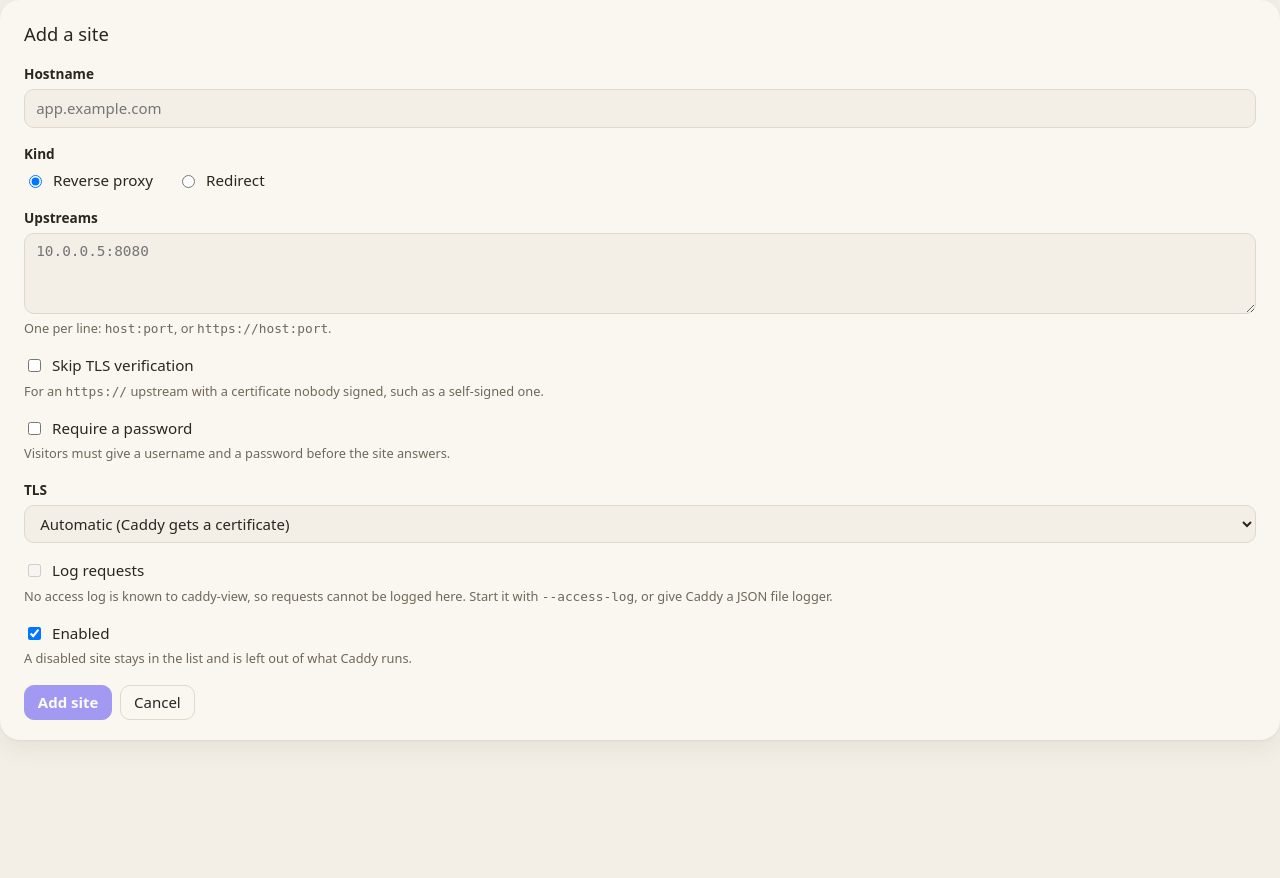
Test: SiteWizard password protection › warns that the password travels unencrypted when TLS is off
Click the checkbox labelled "Require a password" at (34, 428), box top-left (28, 422), bottom-right (41, 435)
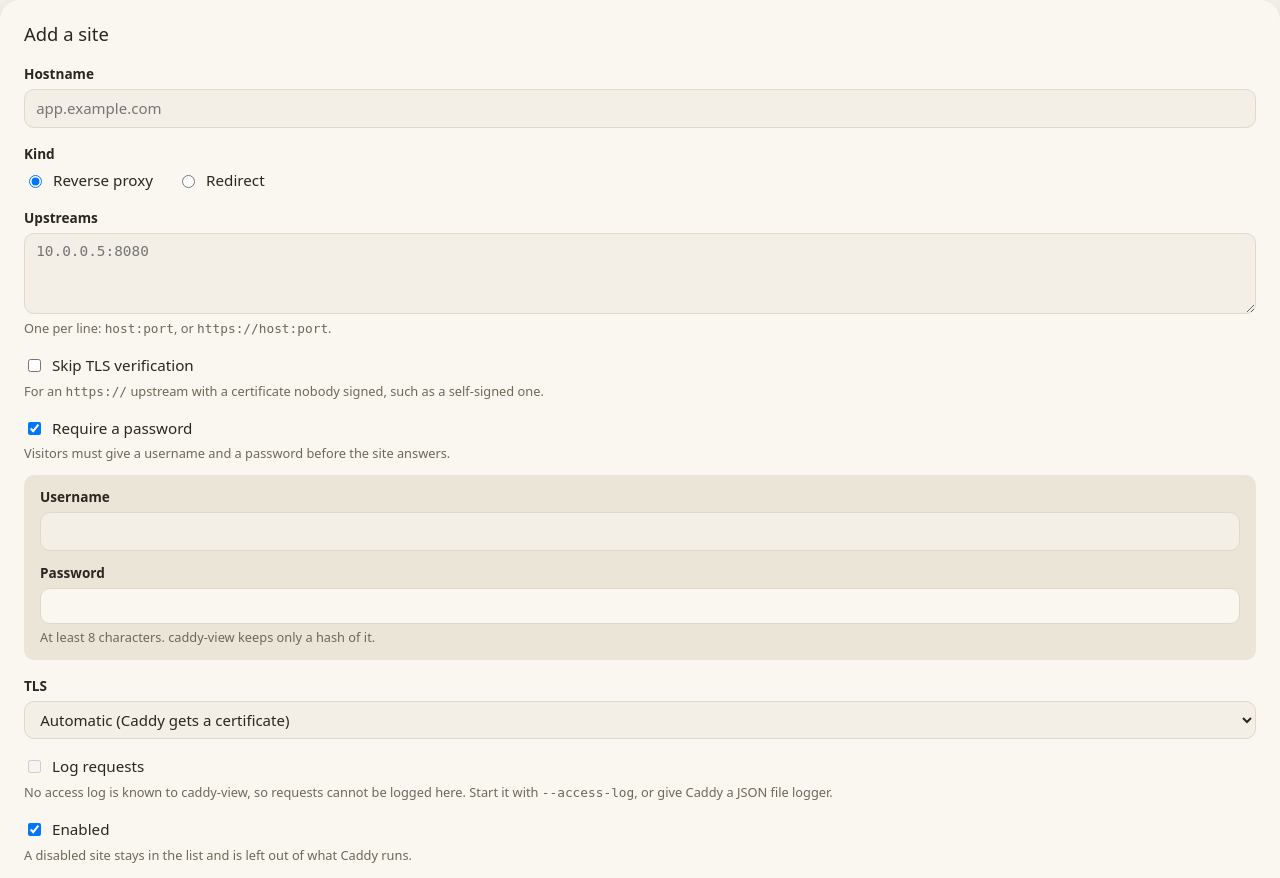
Check: the text "unencrypted" is not shown
Select "Off (plain HTTP)" in the dropdown labelled "TLS" at (640, 720), box top-left (24, 701), bottom-right (1256, 739)
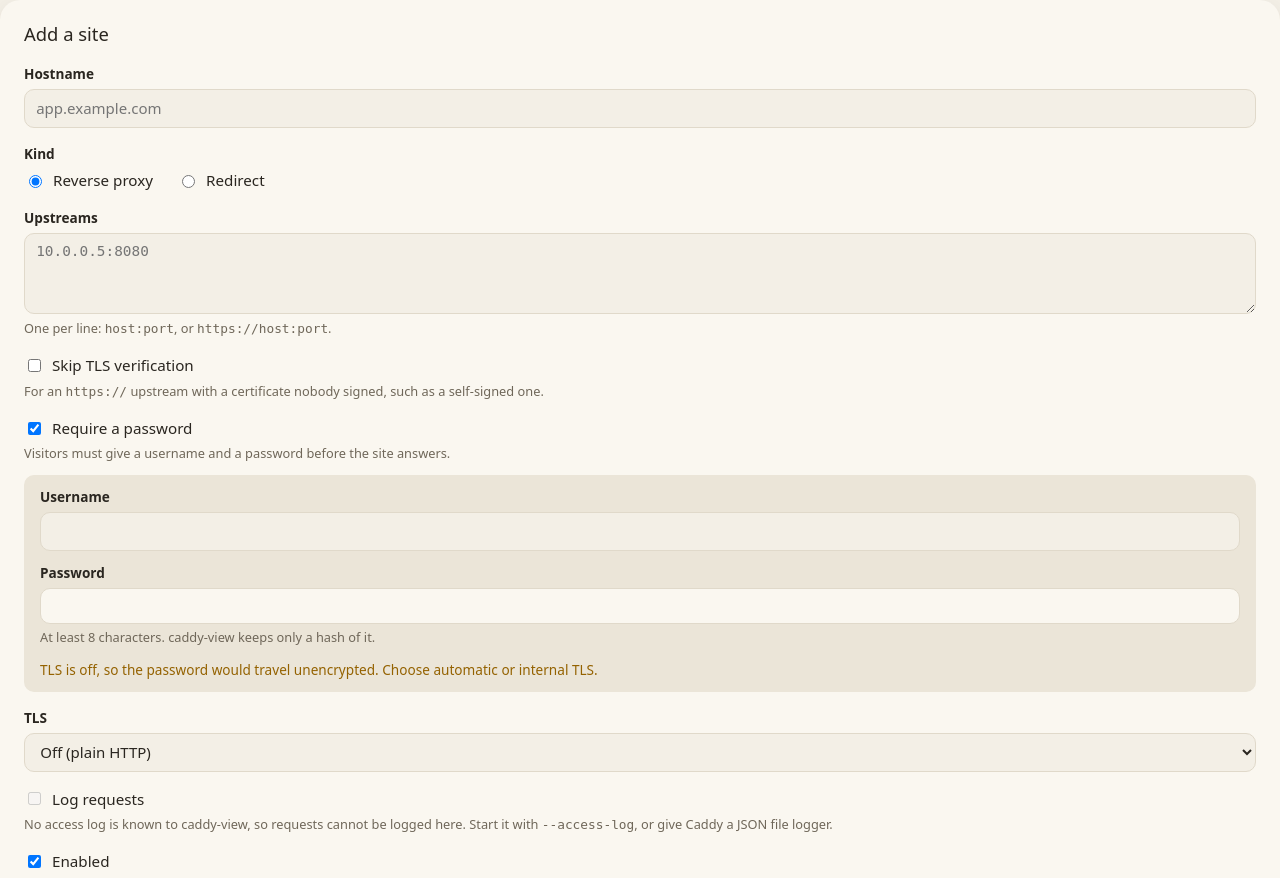
Check: the text "unencrypted" is shown, box top-left (40, 660), bottom-right (598, 679)
Select "Internal (Caddy's own certificate authority)" in the dropdown labelled "TLS" at (640, 752), box top-left (24, 733), bottom-right (1256, 772)
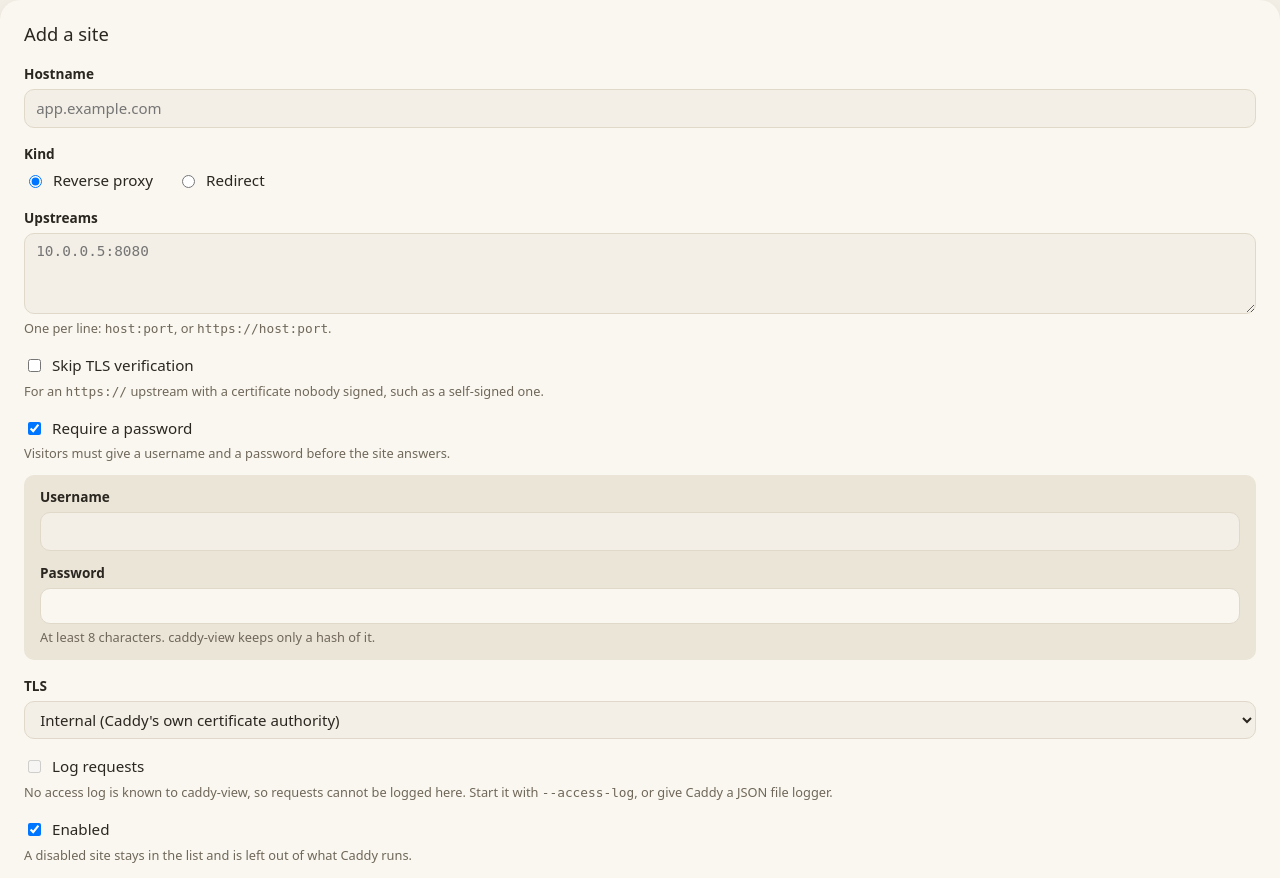
Check: the text "unencrypted" is gone
